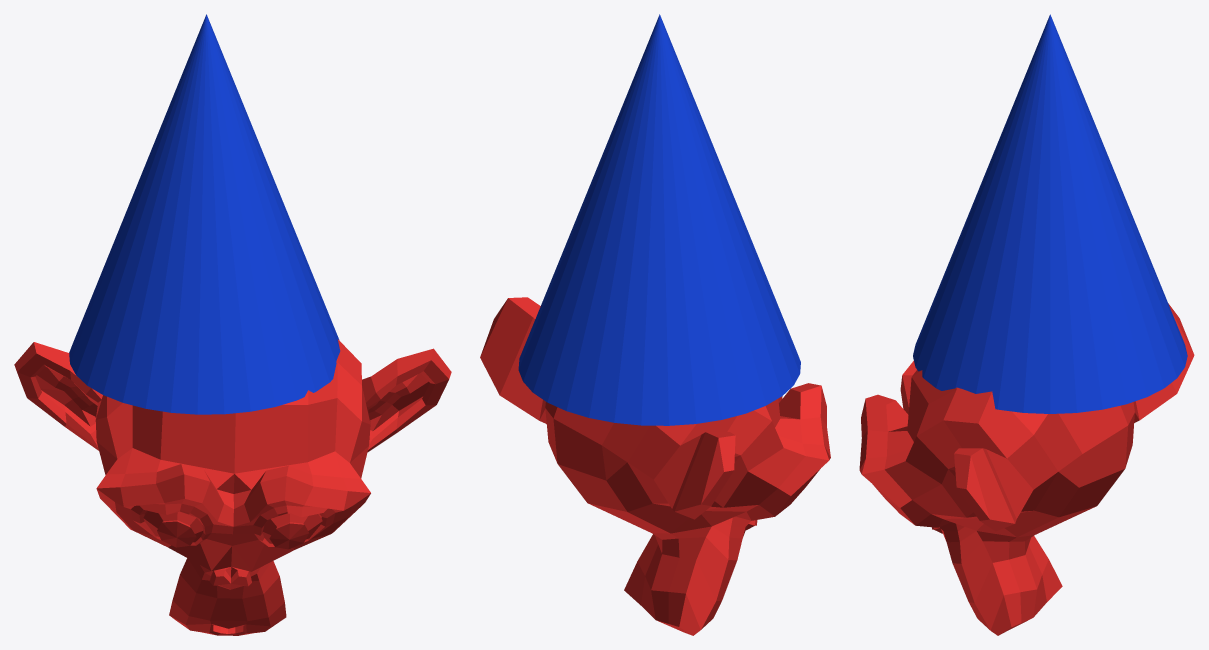
File: monk.glb
The picture shows the model from 3 angles, left to right: view 1: azimuth 30°, elevation 25°; view 2: azimuth 150°, elevation 25°; view 3: azimuth 270°, elevation 25°; orthographic projection. The views are drawn at different scales.
Parts seen in each view (by area): view 1: Cone, Suzanne; view 2: Cone, Suzanne; view 3: Cone, Suzanne.
Part boxes in pixels (x1,y1,x2,y2): Cone: (69,14,340,414); Suzanne: (14,339,451,635); Cone: (518,14,800,425); Suzanne: (480,297,830,635); Cone: (913,14,1187,413); Suzanne: (859,303,1194,635).
Size of the model in its own units: 2.47 by 4.19 by 2.1.
